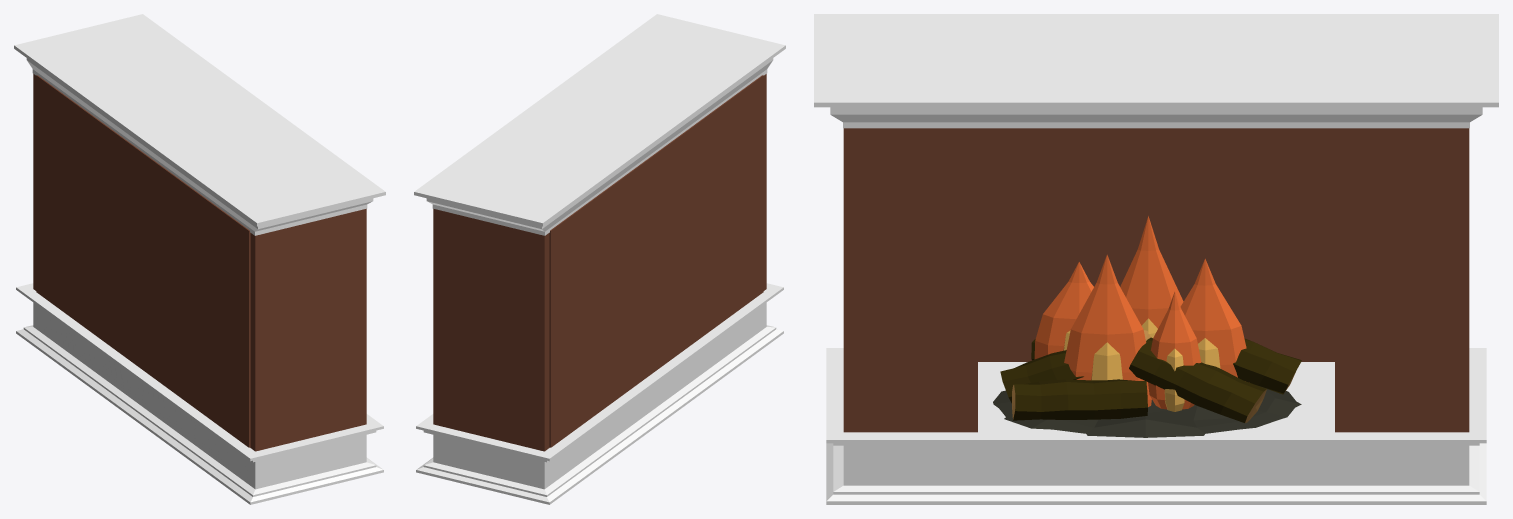
File: fireplace01.gltf
3 renders of one model, left to right at view 1: azimuth 30°, elevation 25°; view 2: azimuth 150°, elevation 25°; view 3: azimuth 270°, elevation 25°, orthographic. The views are drawn at different scales.
Parts seen in each view (by area): view 1: fireplace; view 2: fireplace; view 3: fireplace.
Boxes of the visible parts, bbox=[...] form: fireplace: bbox=[14, 14, 385, 504]; fireplace: bbox=[414, 14, 785, 504]; fireplace: bbox=[814, 14, 1498, 504].
Size of the model in its own units: 0.3793 by 0.7722 by 1.2.
